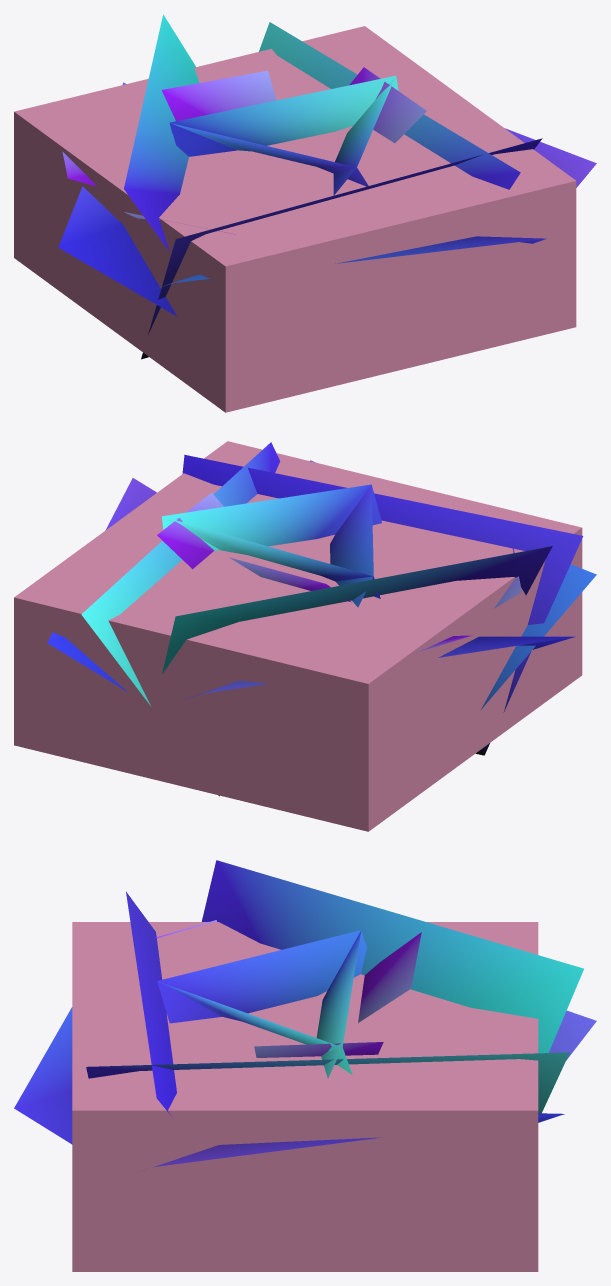
File: utah_greybush_01.dae
3 views of the same model, one above another, from view 1: azimuth 30°, elevation 25°; view 2: azimuth 150°, elevation 25°; view 3: azimuth 270°, elevation 25° (orthographic). The views are drawn at different scales.
Parts seen in each view (by area): view 1: Untitled, tree_oak_bush_a200; view 2: Untitled, tree_oak_bush_a200; view 3: Untitled, tree_oak_bush_a200.
Boxes of the visible parts, left/top/right/bottom form: Untitled: left=14, top=26, right=576, bottom=412; tree_oak_bush_a200: left=58, top=14, right=596, bottom=359; Untitled: left=14, top=441, right=582, bottom=831; tree_oak_bush_a200: left=47, top=442, right=596, bottom=796; Untitled: left=72, top=922, right=538, bottom=1271; tree_oak_bush_a200: left=14, top=860, right=596, bottom=1166.
Size of the model in its own units: 2.17 by 2.04 by 0.8884.
